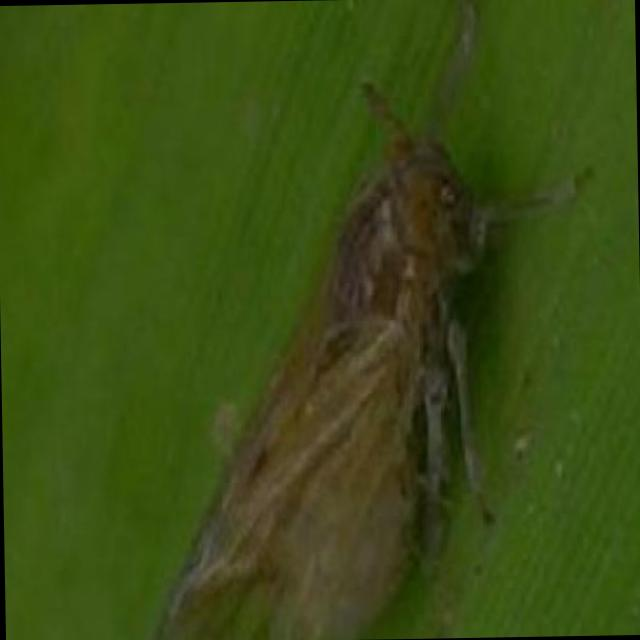brown-planthopper: (153, 85, 571, 640)
